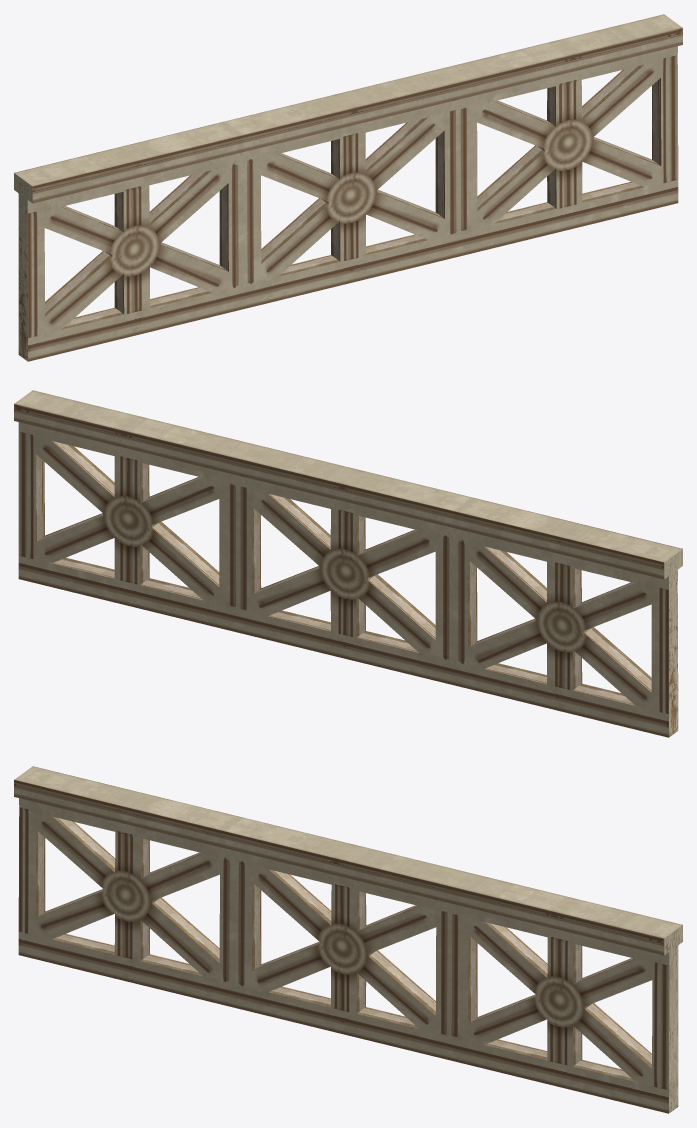
File: svspartarail1.dae
The picture shows the model from 3 angles, top to bottom: view 1: azimuth 30°, elevation 25°; view 2: azimuth 150°, elevation 25°; view 3: azimuth 330°, elevation 25°; orthographic projection.
Parts seen in each view (by area): view 1: unnamed_object29_copy34-0; view 2: unnamed_object29_copy34-0; view 3: unnamed_object29_copy34-0.
Part boxes in pixels (bbox=[...]): unnamed_object29_copy34-0: bbox=[14, 14, 682, 361]; unnamed_object29_copy34-0: bbox=[14, 390, 682, 737]; unnamed_object29_copy34-0: bbox=[14, 766, 682, 1113].
Size of the model in its own units: 400 by 105 by 20.
